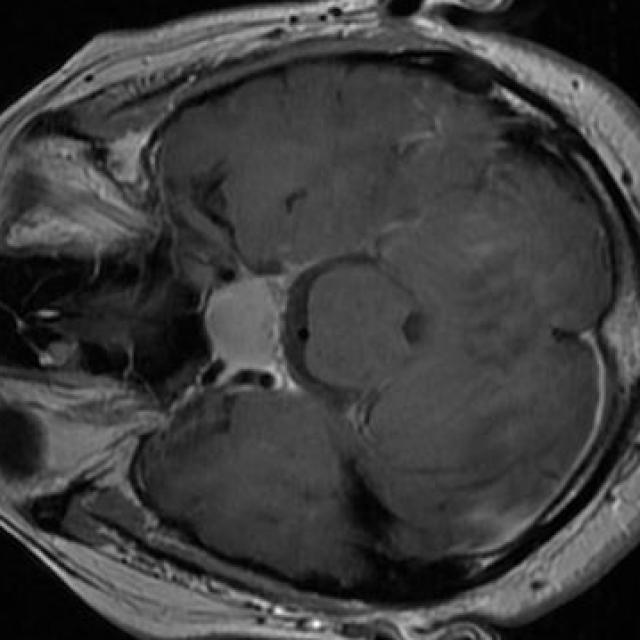pituitary: (205, 280, 280, 365)
